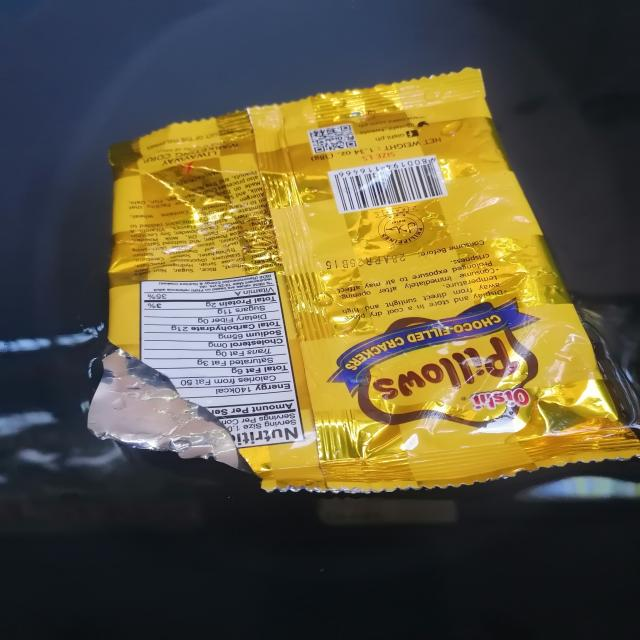Plastic Wrapper: (89, 68, 640, 493)
